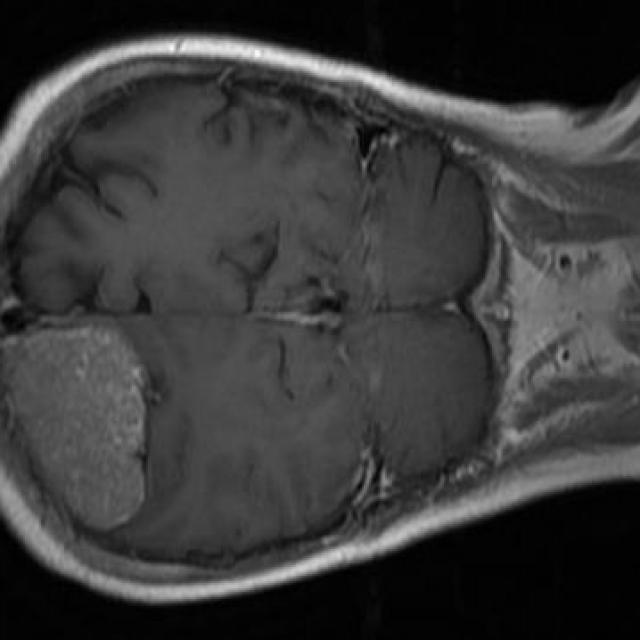meningioma: (4, 328, 146, 533)
